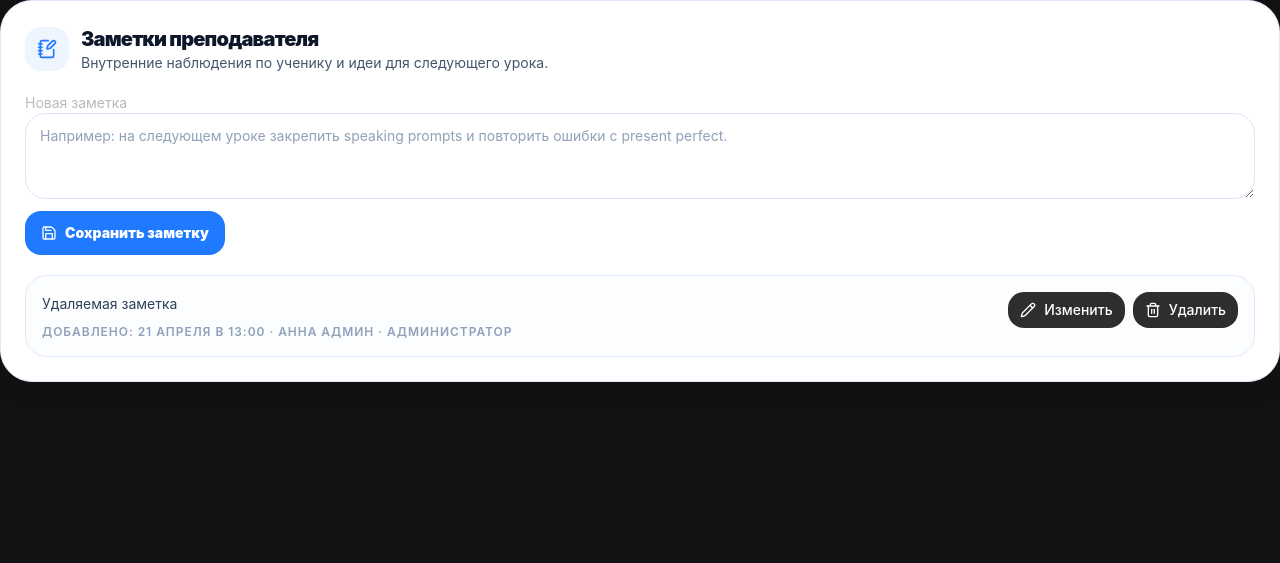
StudentNotesPanel › shows an inline error when note delete fails
Click the button "Удалить" at [1185, 310], box [1133,292,1238,328]
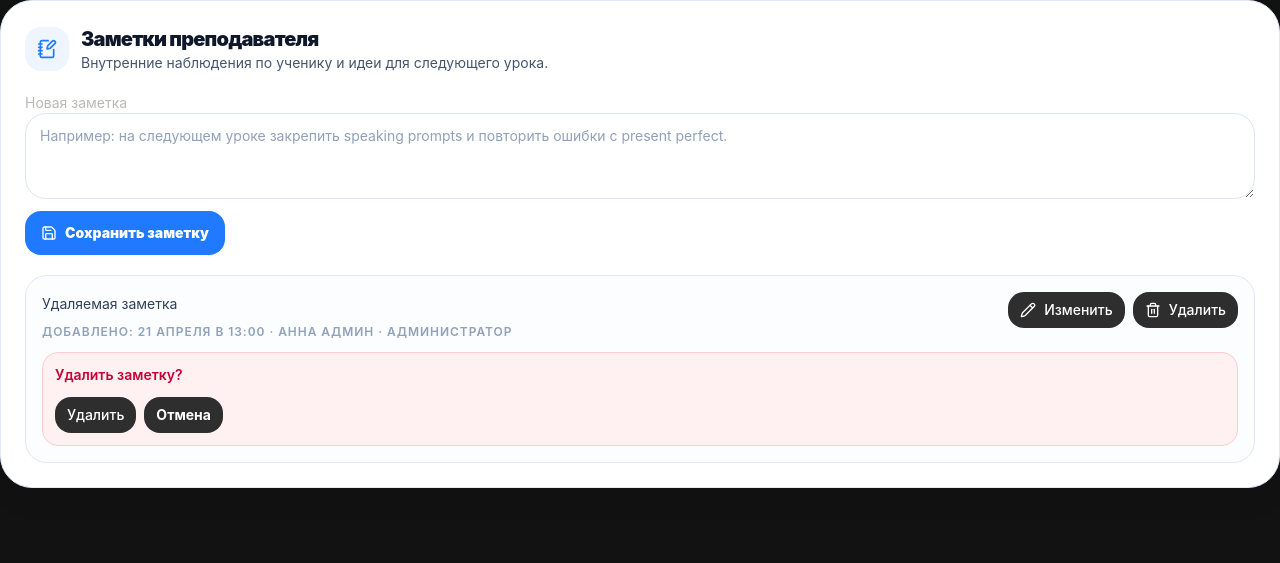
Click the button "Удалить" below "Удалить заметку?" at [96, 415], box [55,397,136,433]
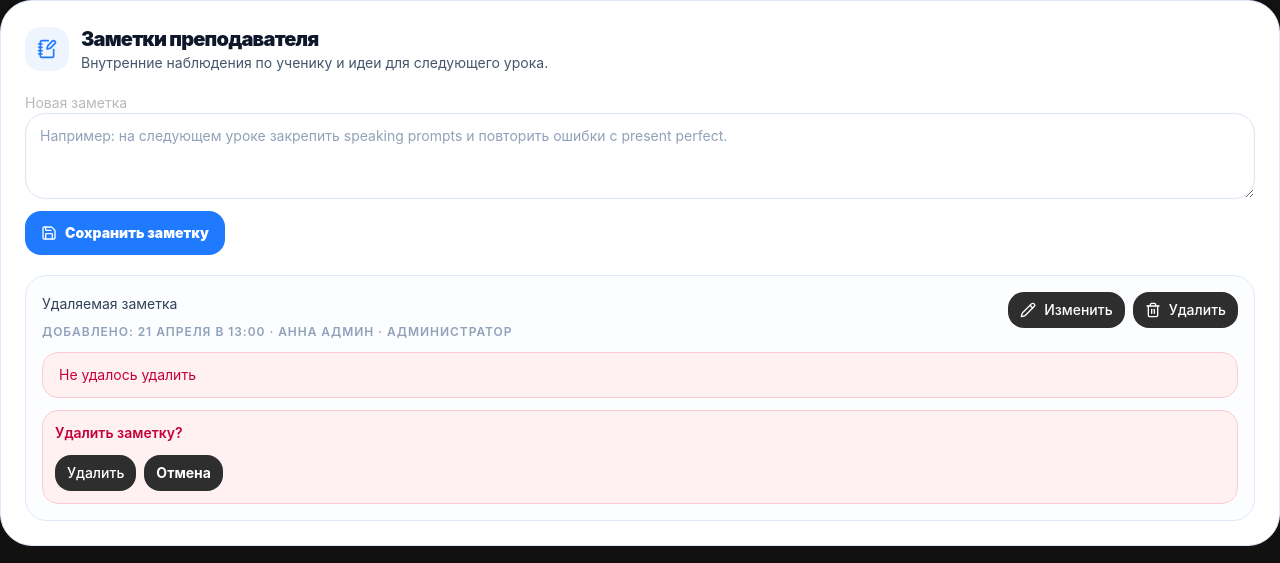
Expected: the text "Удаляемая заметка" is shown, [42,295,178,312]
Expected: the text "Не удалось удалить" is shown, [42,352,1238,398]
